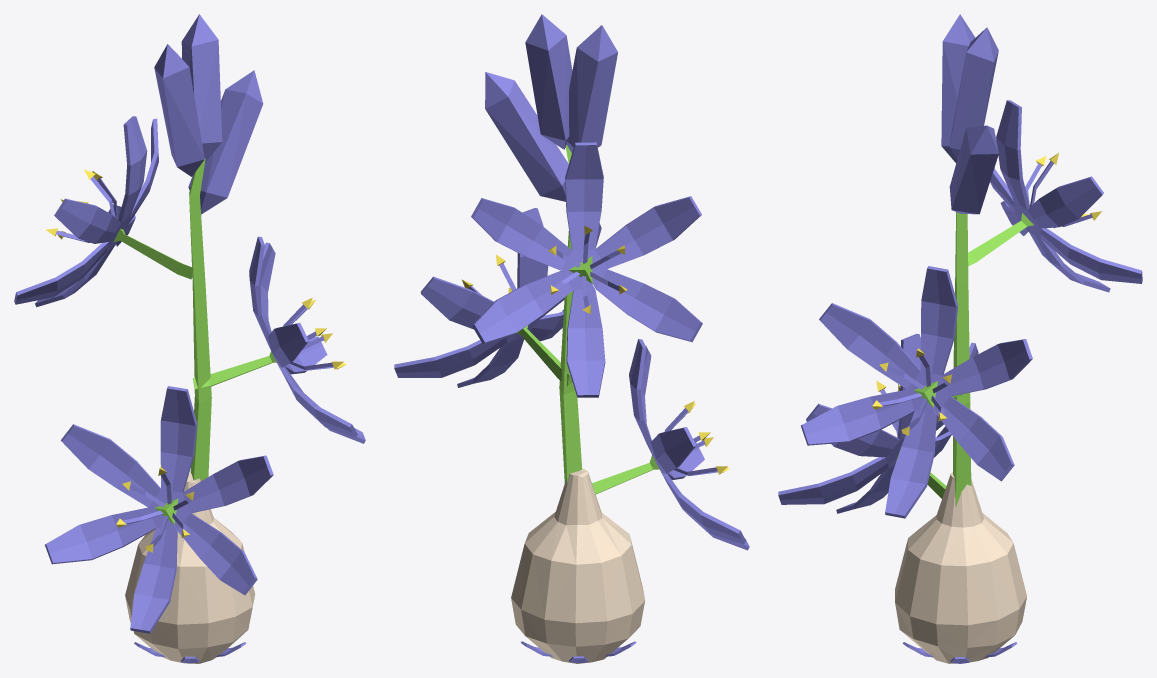
Rendered from camas-bulb.glb.
3 renders of one model, left to right at view 1: azimuth 30°, elevation 25°; view 2: azimuth 150°, elevation 25°; view 3: azimuth 270°, elevation 25°, orthographic. The views are drawn at different scales.
Visible parts, largest first — view 1: Plane.001, Cube, Cylinder.005, Plane.003, Cylinder, Plane.002, Cylinder.002, Cylinder.003, Cylinder.004; view 2: Plane.003, Cylinder.005, Cube, Plane.002, Plane.001, Cylinder, Cylinder.004, Cylinder.002; view 3: Plane.002, Cylinder.005, Cube, Plane.003, Plane.001, Cylinder, Cylinder.003, Cylinder.004.
Part boxes in pixels (<box>): Plane.001: <box>45,386,273,633</box>; Cube: <box>154,14,263,214</box>; Cylinder.005: <box>125,473,255,663</box>; Plane.003: <box>14,116,158,307</box>; Cylinder: <box>113,158,276,513</box>; Plane.002: <box>249,236,365,443</box>; Cylinder.002: <box>116,467,194,552</box>; Cylinder.003: <box>283,297,346,370</box>; Cylinder.004: <box>46,169,117,242</box>; Plane.003: <box>471,142,702,397</box>; Cylinder.005: <box>511,468,645,663</box>; Cube: <box>485,14,617,201</box>; Plane.002: <box>394,208,601,387</box>; Plane.001: <box>629,339,749,550</box>; Cylinder: <box>515,145,659,494</box>; Cylinder.004: <box>548,226,627,314</box>; Cylinder.002: <box>664,401,729,475</box>; Plane.002: <box>801,266,1032,518</box>; Cylinder.005: <box>895,472,1026,663</box>; Cube: <box>941,14,998,214</box>; Plane.003: <box>990,100,1142,292</box>; Plane.001: <box>778,333,978,513</box>; Cylinder: <box>896,212,1033,506</box>; Cylinder.003: <box>872,348,951,435</box>; Cylinder.004: <box>1025,153,1101,228</box>.
Size of the model in its own units: 1.02 by 1.97 by 1.02.
